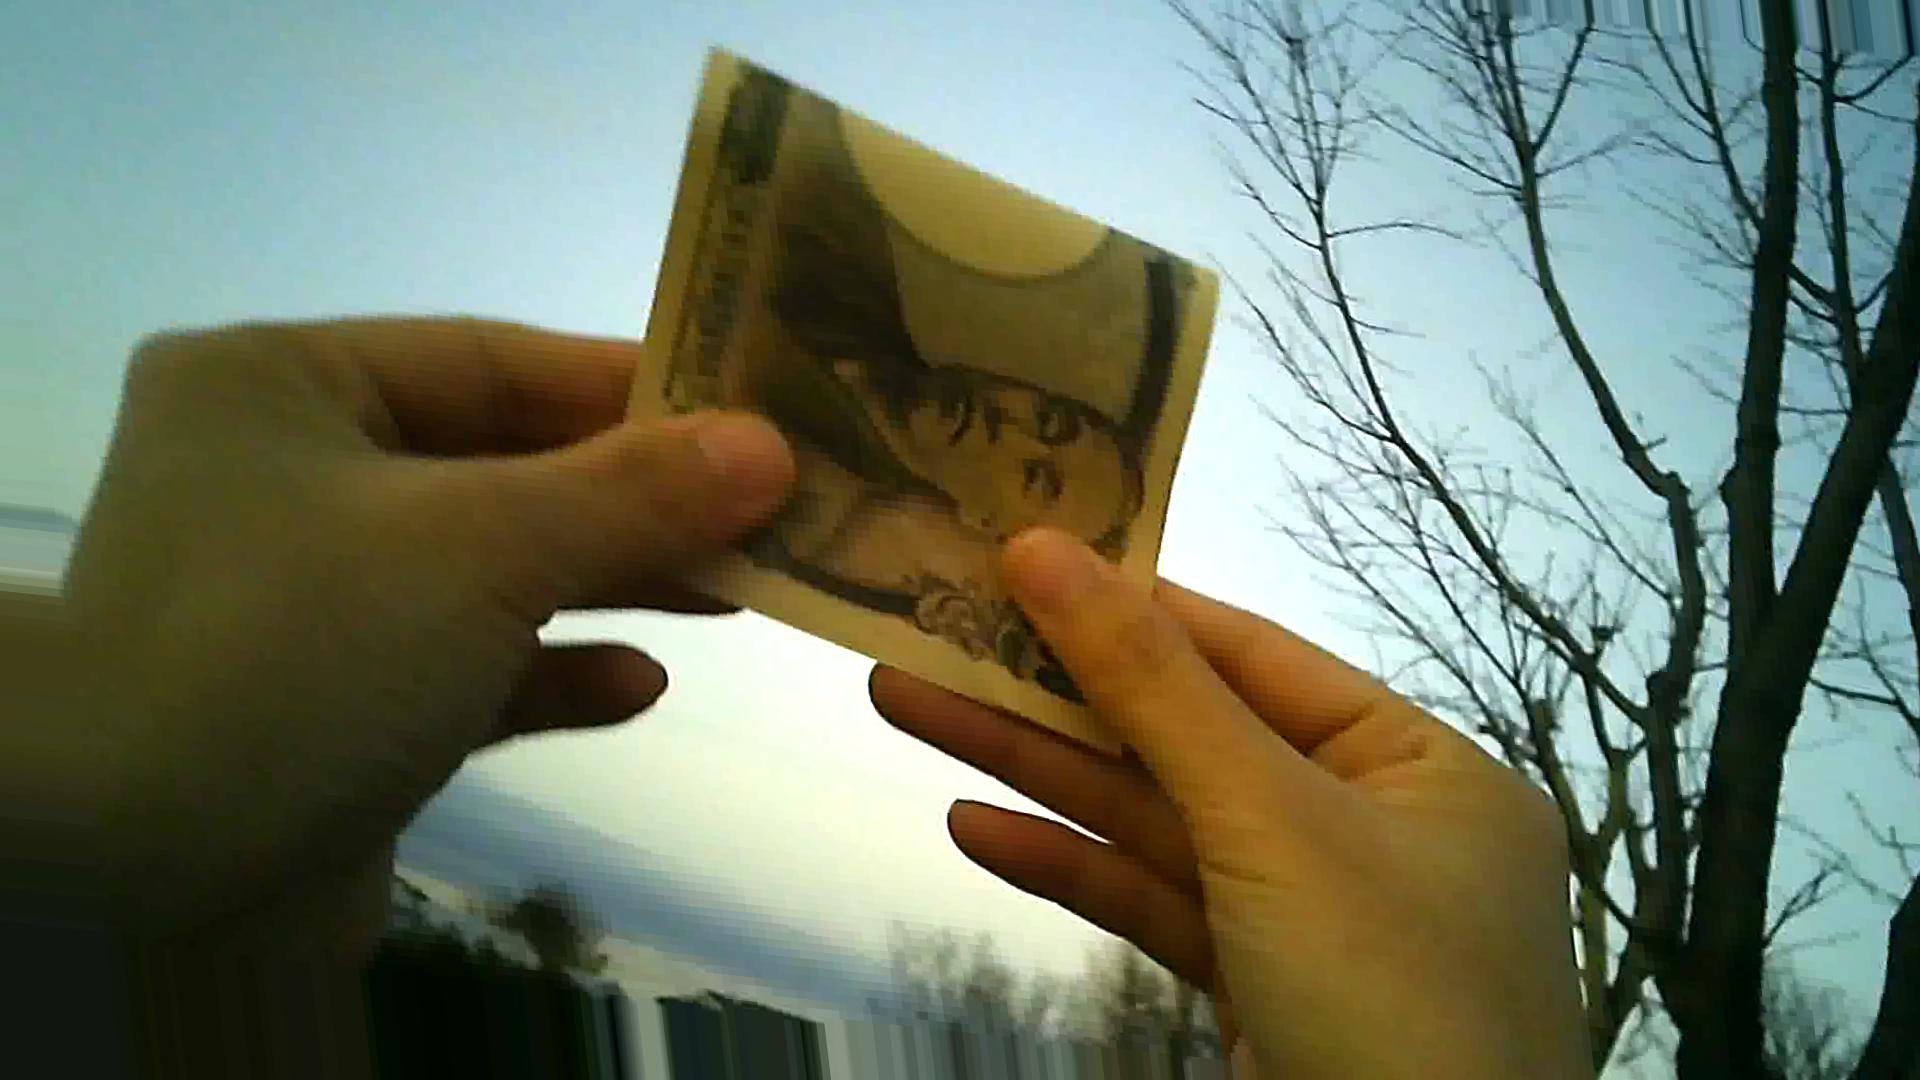10,000 Yen: (620, 30, 1207, 744)
